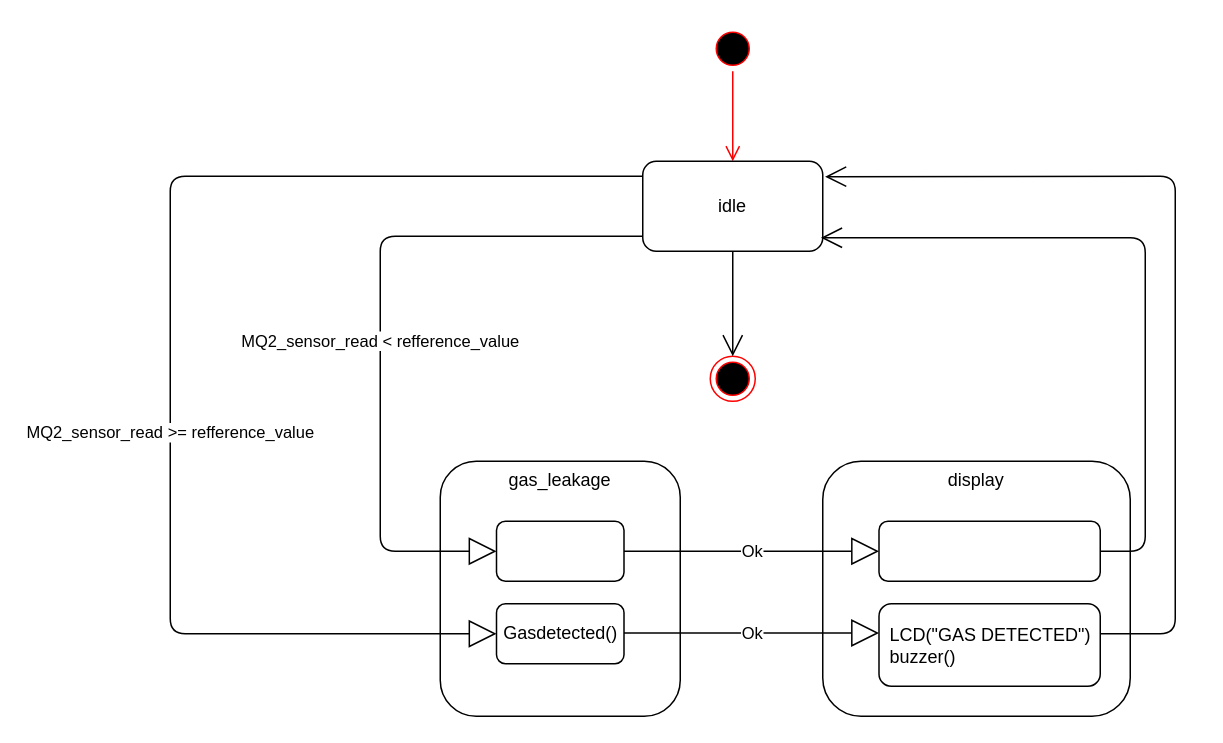
The diagram is 1223 pixels wide and 743 high, and some of its shapes have lost their labels. Each missing label, with the centre of its shape:
LCD("NO GAS"): the point at 989,550
Nogas(): the point at 559,550
